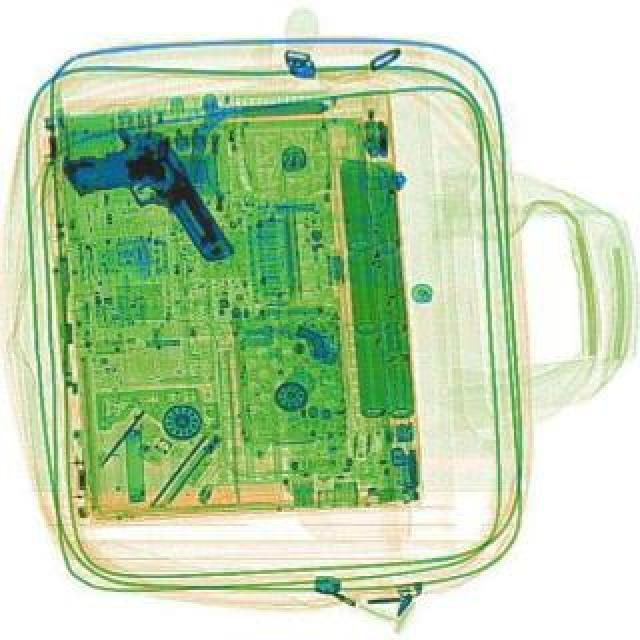gun: (54, 112, 236, 300)
